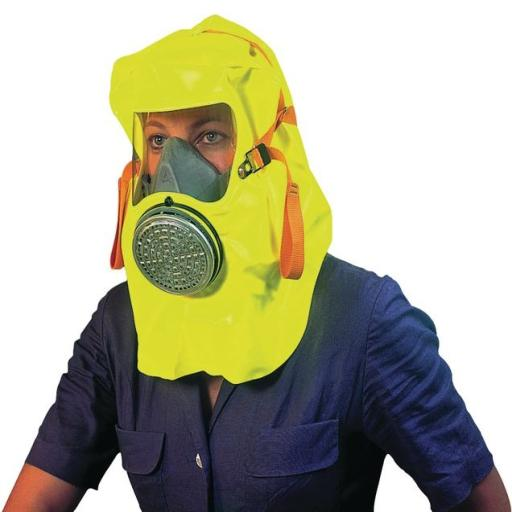mask: (93, 35, 333, 326)
